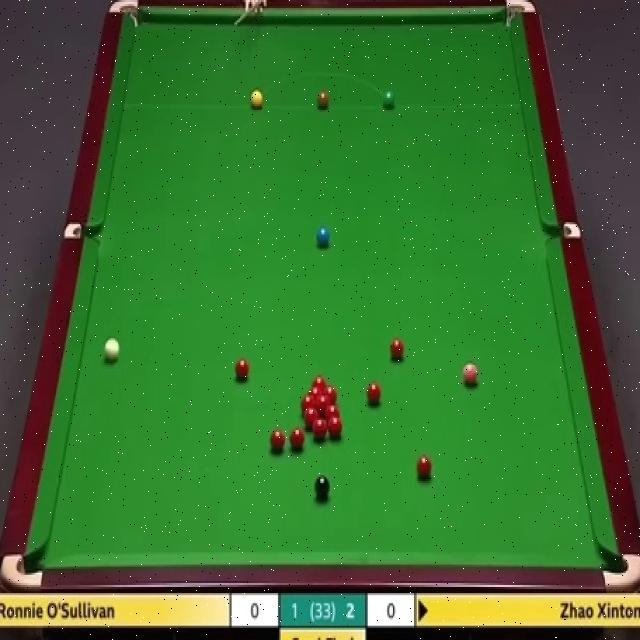black-ball: (314, 476, 331, 500)
blue-ball: (316, 226, 331, 248)
brown-ball: (317, 91, 330, 110)
green-ball: (383, 90, 395, 109)
pink-ball: (462, 360, 479, 386)
red-ball: (415, 453, 433, 482), (269, 428, 285, 454), (312, 418, 328, 441), (366, 382, 382, 405), (234, 358, 249, 382), (327, 416, 342, 440), (389, 338, 405, 359), (290, 428, 304, 451), (304, 408, 320, 427), (300, 394, 318, 407), (322, 386, 338, 400), (323, 405, 340, 418), (310, 377, 328, 388), (316, 396, 330, 408), (308, 386, 325, 395)
white-ball: (103, 336, 120, 361)
yellow-ball: (250, 88, 262, 110)
